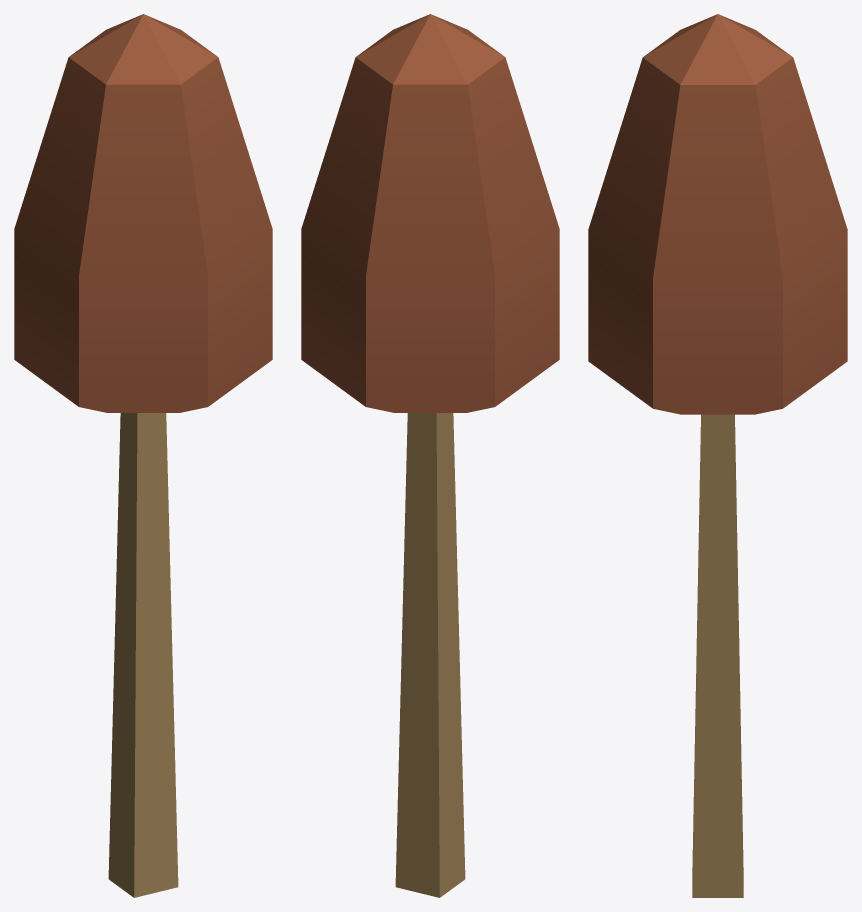
Rendered from naturePack_068.obj.
3 views of the same model, side by side, from view 1: azimuth 30°, elevation 25°; view 2: azimuth 150°, elevation 25°; view 3: azimuth 270°, elevation 25° (orthographic).
Visible parts, largest first — view 1: Fall_Leafs, Wood, Mesh1 Oak_Dark Model; view 2: Mesh1 Oak_Dark Model, Wood; view 3: Mesh1 Oak_Dark Model, Wood, Fall_Leafs.
Boxes of the visible parts, x1=… form: Fall_Leafs: x1=79, y1=57, x2=272, y2=412; Wood: x1=108, y1=413, x2=178, y2=897; Mesh1 Oak_Dark Model: x1=14, y1=14, x2=217, y2=406; Mesh1 Oak_Dark Model: x1=301, y1=14, x2=559, y2=412; Wood: x1=395, y1=413, x2=465, y2=897; Mesh1 Oak_Dark Model: x1=643, y1=14, x2=847, y2=414; Wood: x1=692, y1=414, x2=743, y2=897; Fall_Leafs: x1=588, y1=58, x2=680, y2=408.
Size of the model in its own units: 1.58 by 6.75 by 1.82.
